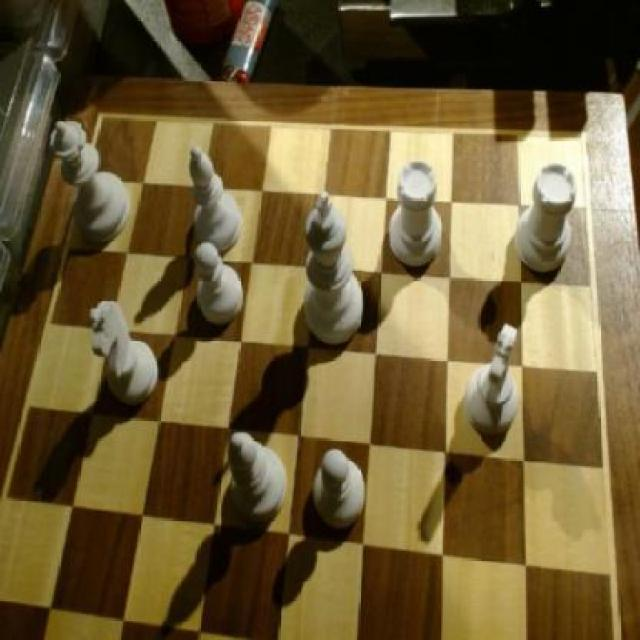black-rook: (223, 426, 294, 529), (186, 142, 246, 255)
white-bishop: (296, 188, 372, 350)
white-king: (86, 296, 165, 406), (458, 317, 526, 440)
white-knight: (190, 242, 248, 326), (314, 444, 369, 532)
white-pawn: (46, 109, 141, 251)
white-queen: (514, 160, 581, 272), (388, 153, 447, 270)
